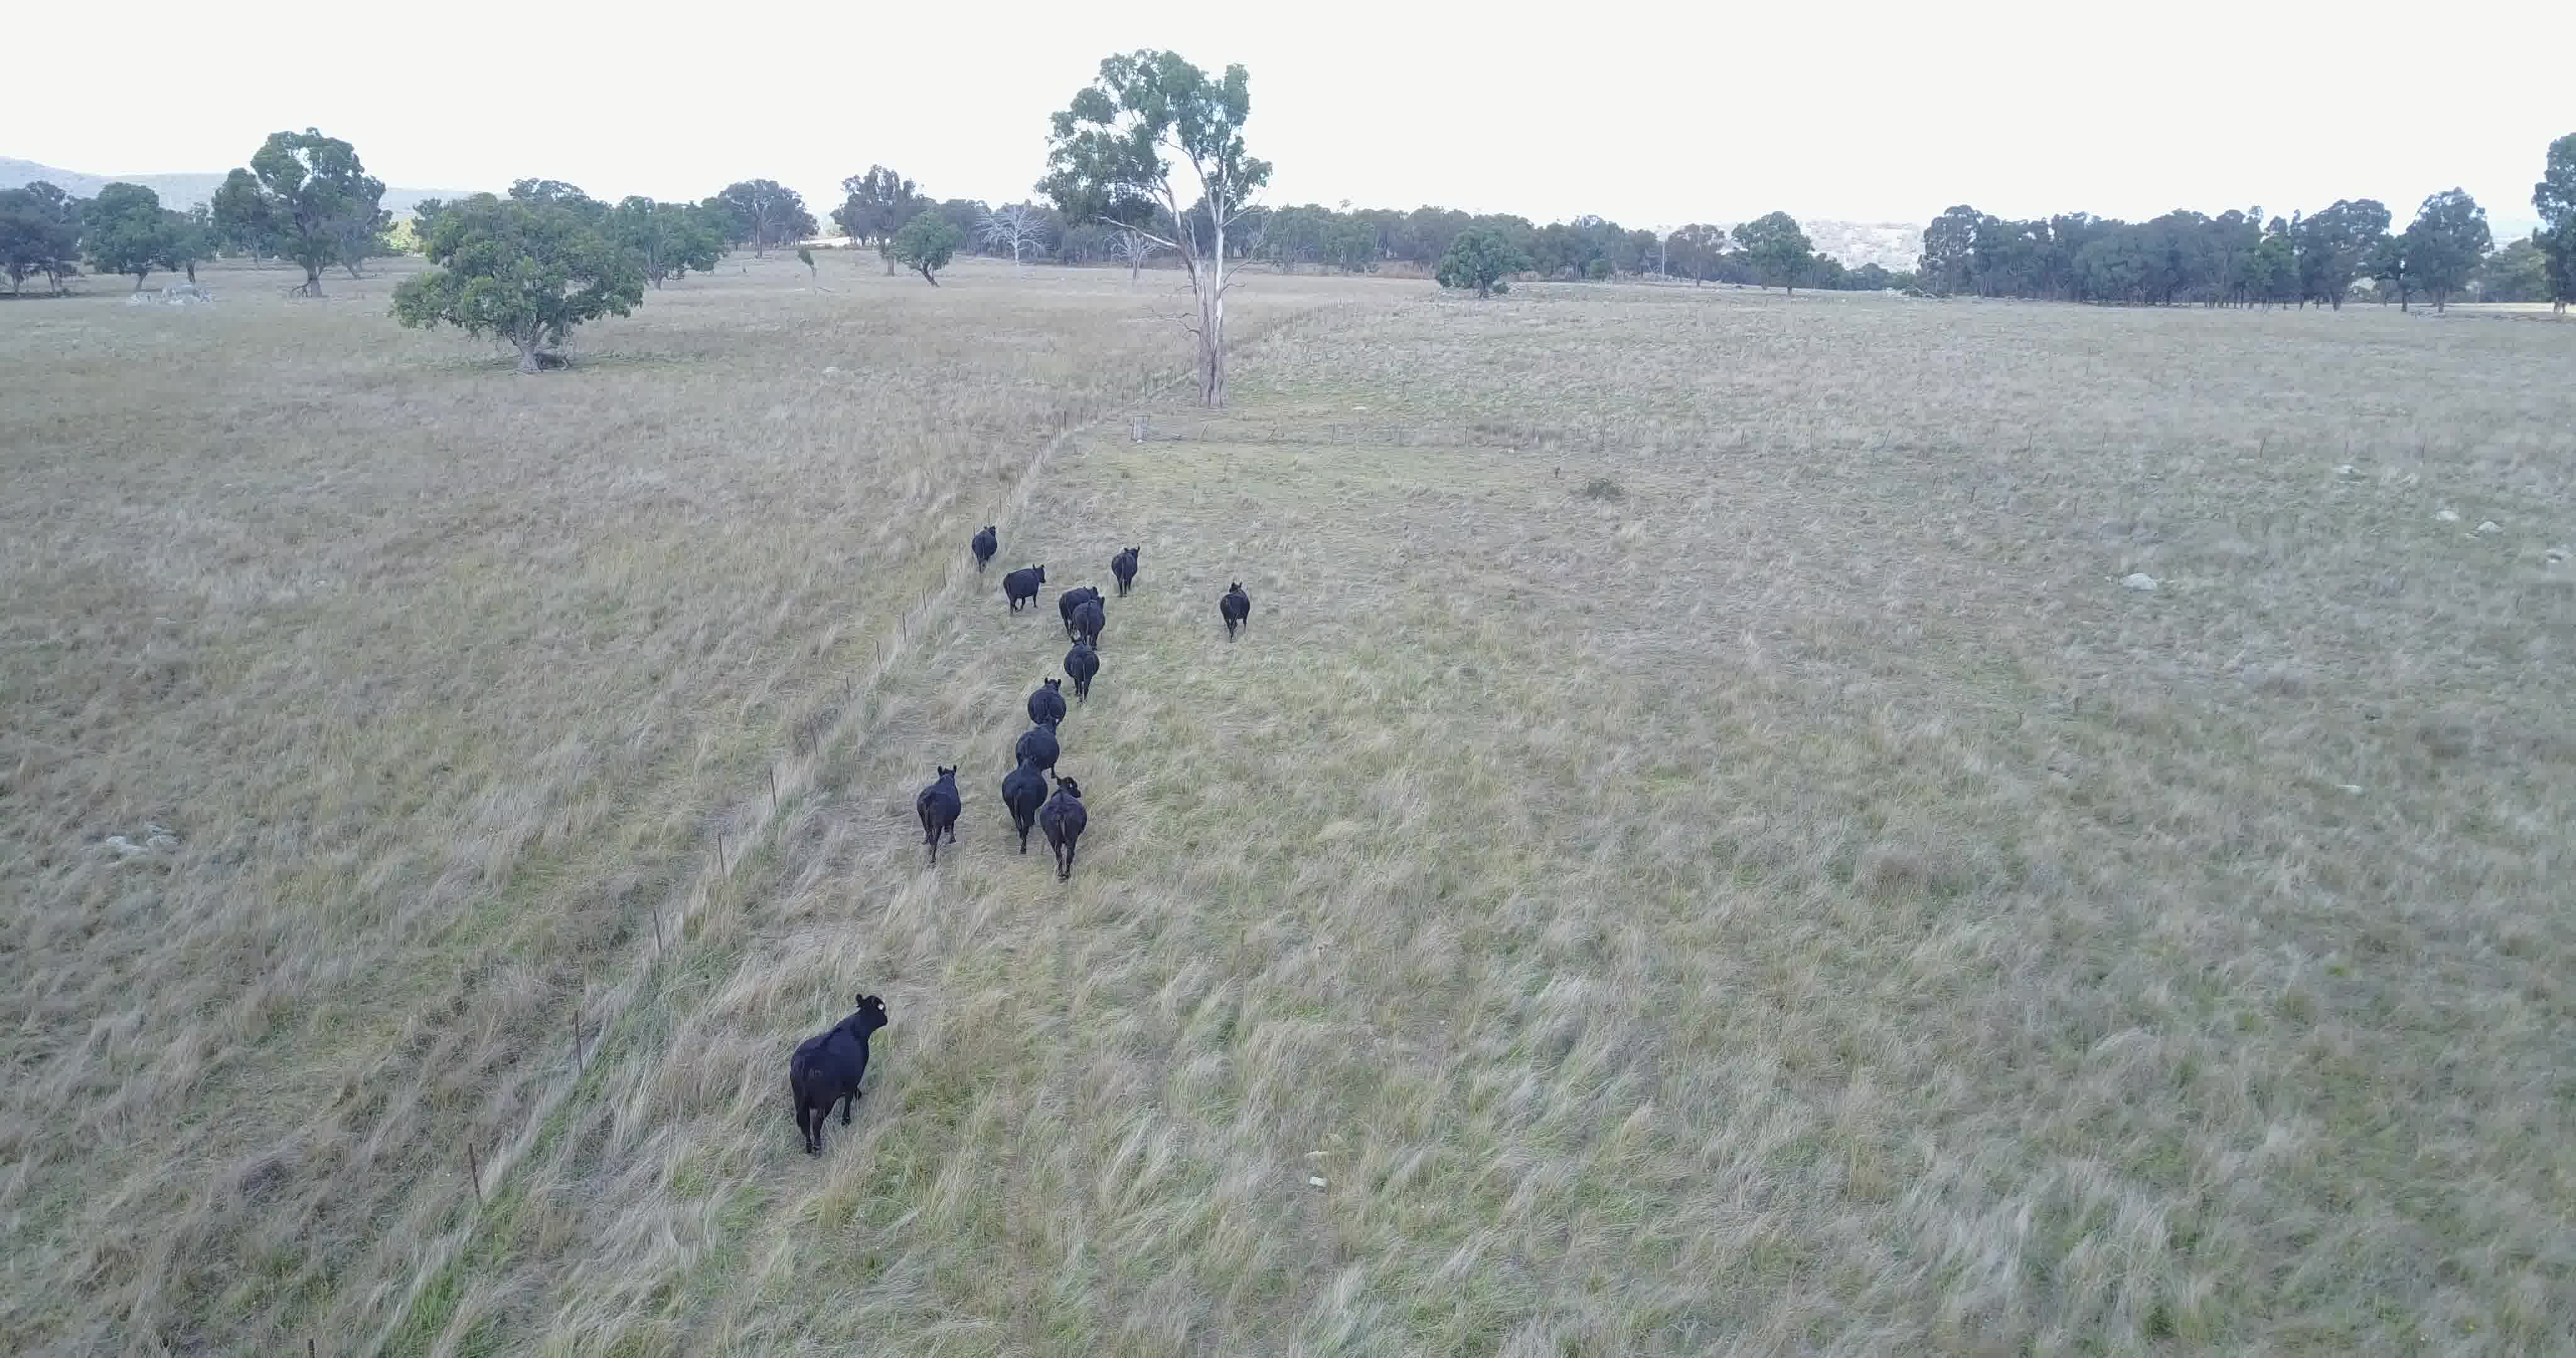cattle: (779, 993, 891, 1165), (913, 762, 964, 878), (1041, 777, 1089, 883), (1000, 757, 1048, 859), (1012, 714, 1065, 775), (1063, 639, 1101, 700), (1218, 581, 1252, 647), (1002, 564, 1046, 615), (1024, 678, 1072, 724), (1075, 595, 1113, 642), (1111, 545, 1143, 598), (969, 523, 1000, 576), (1058, 584, 1099, 612)
